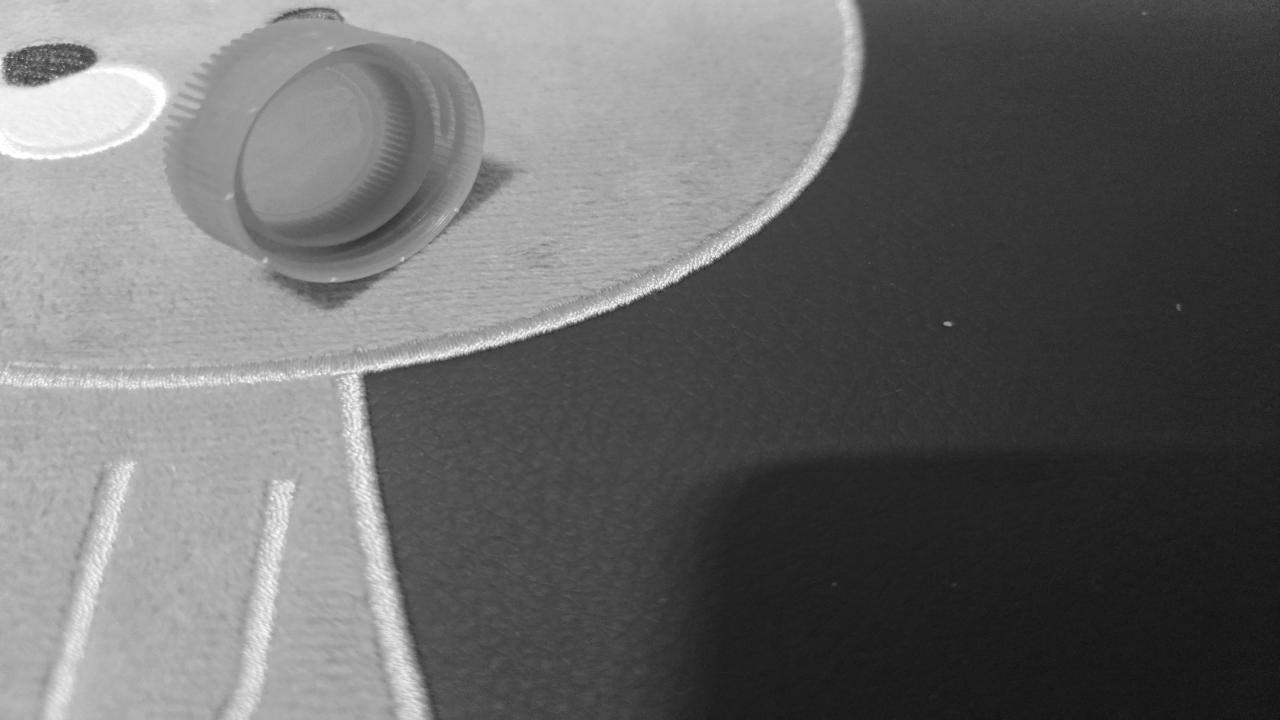bottle_cap: (169, 22, 482, 280)
